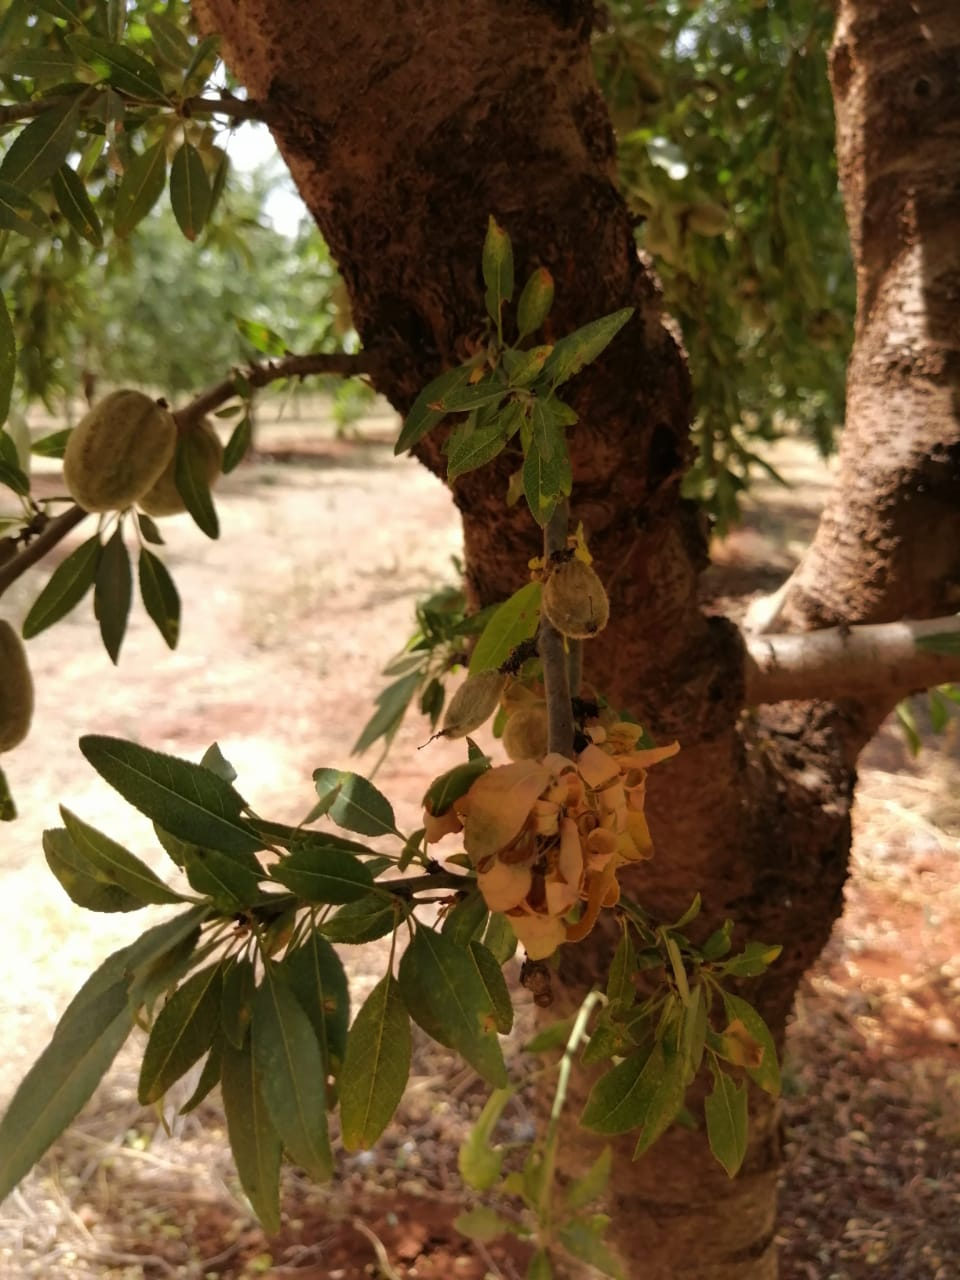chancre fusicocum: (442, 656, 682, 975)
